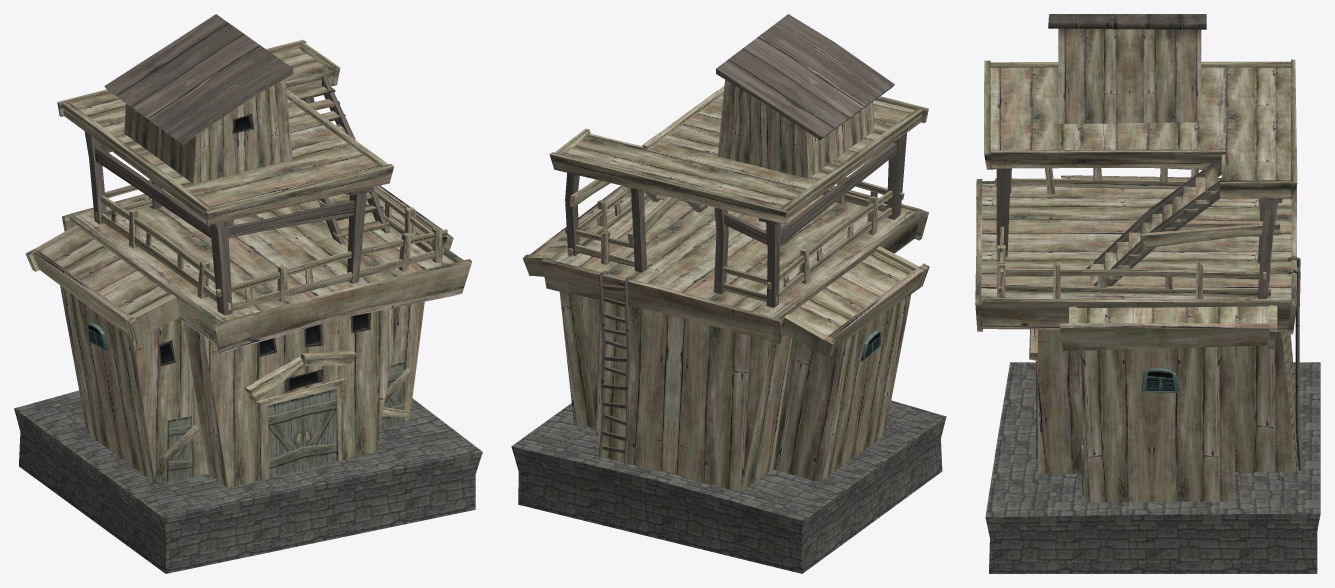
The model's file is shanty_guildhall_exterior.fbx.
The picture shows the model from 3 angles, left to right: view 1: azimuth 30°, elevation 25°; view 2: azimuth 150°, elevation 25°; view 3: azimuth 270°, elevation 25°; orthographic projection. The views are drawn at different scales.
Visible parts, largest first — view 1: foundation.001, building_walls, balcony_floor_center, penthouse_roof, balcony_floor_perimeter_center, penthouse_floor.001, penthouse_floor_perimeter, penthouse_walls, balcony_floor_left, balcony_floor_perimeter_left, door_left, door_right (+17 smaller); view 2: building_walls, foundation.001, balcony_floor_center, penthouse_roof, penthouse_floor.001, balcony_floor_perimeter_center, penthouse_floor_perimeter, penthouse_walls, balcony_floor_left, balcony_floor_perimeter_left, ladder, columnsupport2 (+10 smaller); view 3: building_walls, foundation.001, balcony_floor_center, penthouse_floor.001, penthouse_walls, penthouse_floor_perimeter, balcony_floor_perimeter_center, balcony_floor_perimeter_right, balcony_floor_right, penthouse_roof, railing_H_8, railing_H_7 (+10 smaller).
Part boxes in pixels (x1=…): foundation.001: x1=14, y1=390, x2=482, y2=573; building_walls: x1=60, y1=285, x2=424, y2=488; balcony_floor_center: x1=75, y1=191, x2=454, y2=321; penthouse_roof: x1=104, y1=14, x2=293, y2=144; balcony_floor_perimeter_center: x1=62, y1=189, x2=472, y2=353; penthouse_floor.001: x1=72, y1=48, x2=379, y2=208; penthouse_floor_perimeter: x1=57, y1=39, x2=393, y2=225; penthouse_walls: x1=124, y1=79, x2=292, y2=183; balcony_floor_left: x1=39, y1=229, x2=169, y2=315; balcony_floor_perimeter_left: x1=25, y1=225, x2=179, y2=343; door_left: x1=268, y1=397, x2=302, y2=478; door_right: x1=303, y1=389, x2=337, y2=469; building_walls: x1=559, y1=291, x2=911, y2=492; foundation.001: x1=511, y1=400, x2=946, y2=573; balcony_floor_center: x1=555, y1=194, x2=915, y2=317; penthouse_roof: x1=716, y1=14, x2=894, y2=139; penthouse_floor.001: x1=564, y1=95, x2=914, y2=208; balcony_floor_perimeter_center: x1=541, y1=186, x2=928, y2=343; penthouse_floor_perimeter: x1=549, y1=86, x2=928, y2=223; penthouse_walls: x1=718, y1=79, x2=874, y2=178; balcony_floor_left: x1=789, y1=251, x2=912, y2=336; balcony_floor_perimeter_left: x1=783, y1=246, x2=929, y2=357; ladder: x1=598, y1=270, x2=631, y2=464; columnsupport2: x1=780, y1=143, x2=896, y2=245; building_walls: x1=1038, y1=329, x2=1296, y2=502; foundation.001: x1=985, y1=362, x2=1320, y2=573; balcony_floor_center: x1=981, y1=183, x2=1291, y2=299; penthouse_floor.001: x1=990, y1=67, x2=1290, y2=180; penthouse_walls: x1=1058, y1=28, x2=1201, y2=124; penthouse_floor_perimeter: x1=984, y1=59, x2=1297, y2=198; balcony_floor_perimeter_center: x1=975, y1=179, x2=1296, y2=334; balcony_floor_perimeter_right: x1=1060, y1=305, x2=1277, y2=350; balcony_floor_right: x1=1076, y1=306, x2=1269, y2=323; penthouse_roof: x1=1048, y1=14, x2=1206, y2=29; railing_H_8: x1=1005, y1=283, x2=1271, y2=298; railing_H_7: x1=1005, y1=268, x2=1259, y2=279.
Size of the model in its own units: 4842 by 6495 by 4293.
2 materials, 2 textured.
